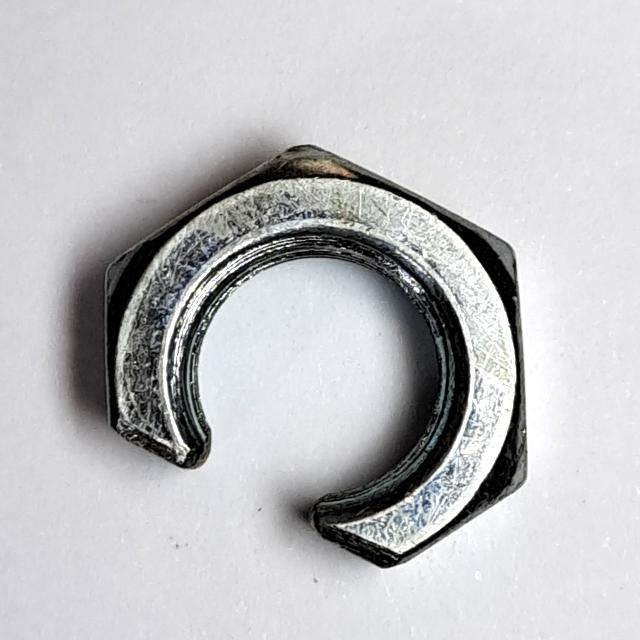Fracture: (85, 130, 544, 587)
